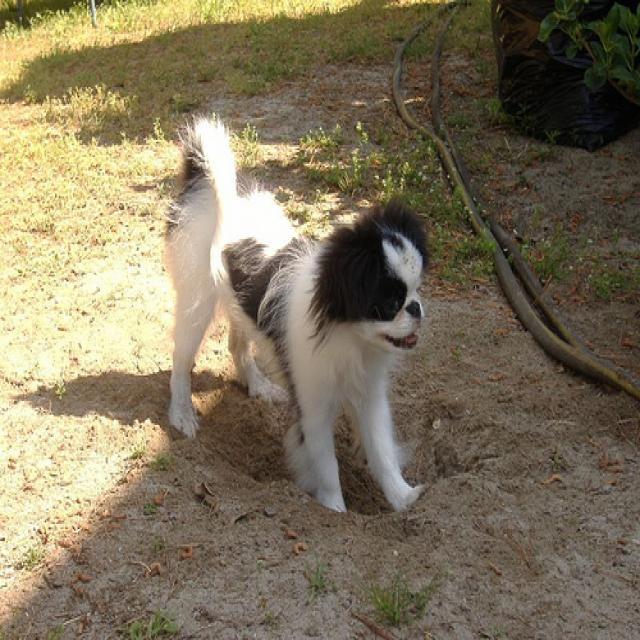dog-japanese_chin: (150, 108, 444, 531)
